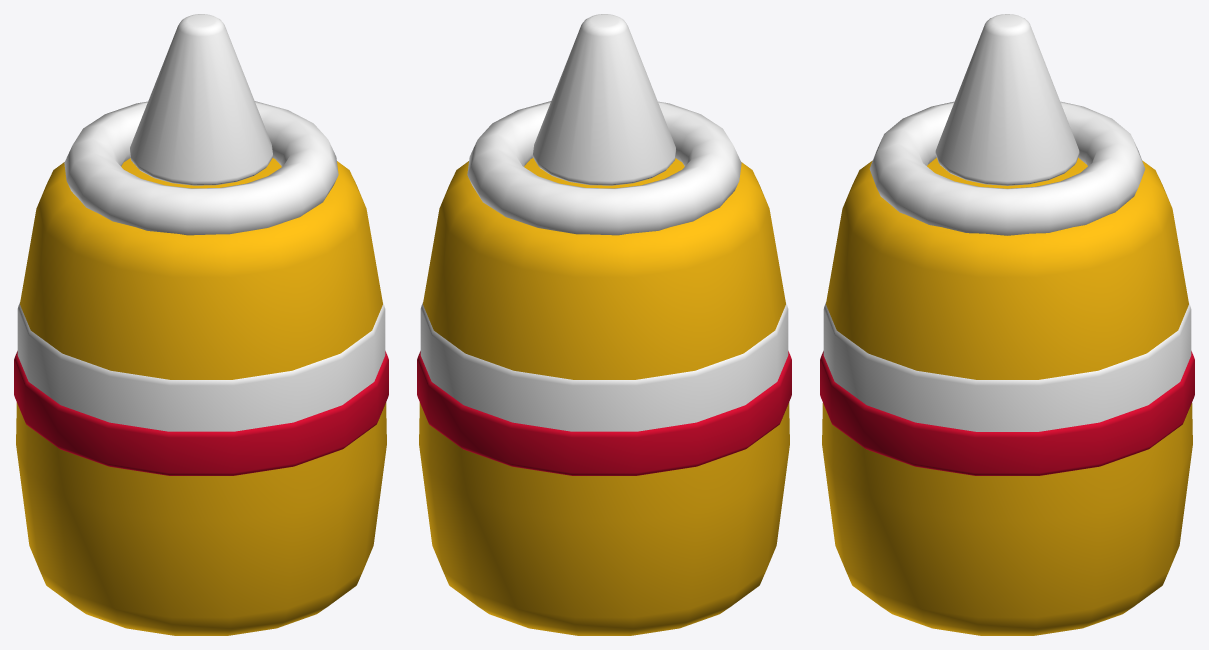
File: mustard.gltf
The picture shows the model from 3 angles, left to right: view 1: azimuth 30°, elevation 25°; view 2: azimuth 150°, elevation 25°; view 3: azimuth 270°, elevation 25°; orthographic projection.
Parts seen in each view (by area): view 1: Mustard_Bottle; view 2: Mustard_Bottle; view 3: Mustard_Bottle.
Boxes of the visible parts, x1,y1,x2,y2 form: Mustard_Bottle: (14,14,388,635); Mustard_Bottle: (417,14,791,635); Mustard_Bottle: (820,14,1194,635).
Bounding box in the file's own units: 0.2088 × 0.3475 × 0.212.
